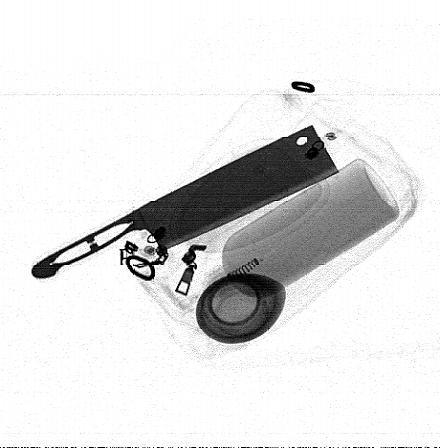Knife: (30, 124, 341, 280)
